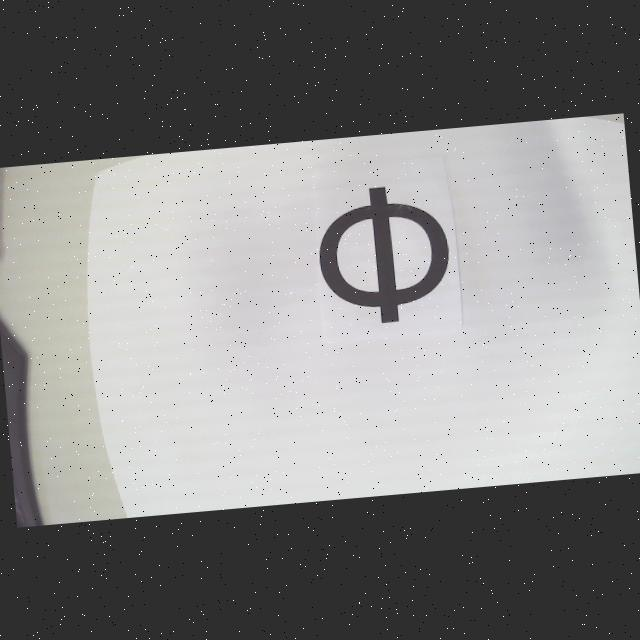PHI: (312, 180, 454, 328)
